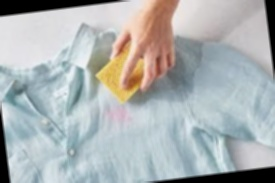lipstick: (104, 101, 137, 123)
